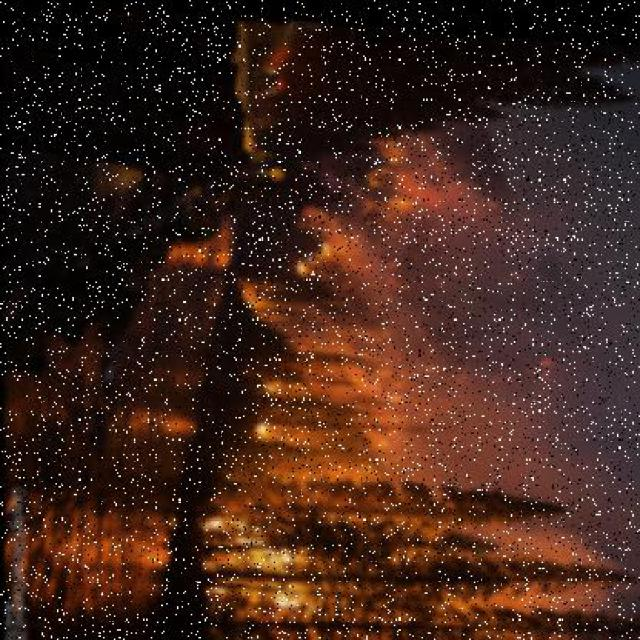fire: (209, 118, 536, 639)
